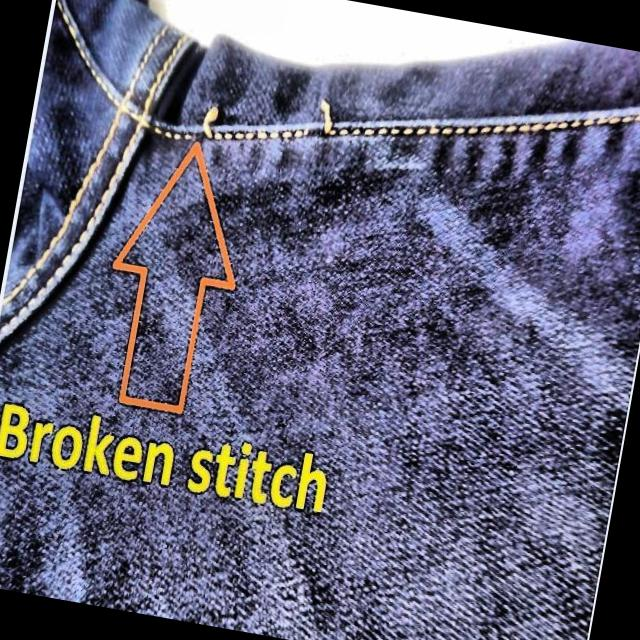gray stitch: (180, 75, 363, 167)
